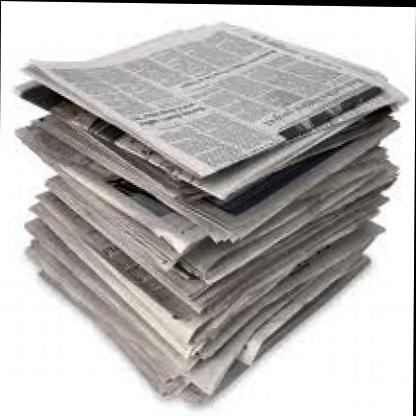Paper: (7, 14, 413, 416)
